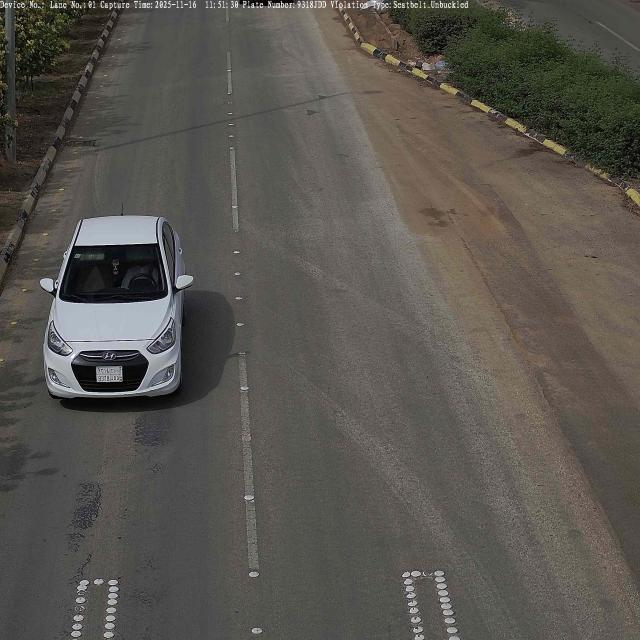person_without_seatbelt: (121, 260, 158, 289)
